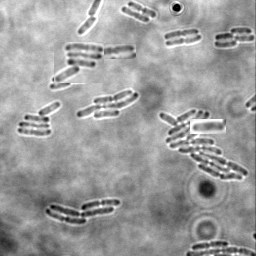Dividing: (90, 44, 136, 59), (190, 119, 226, 134), (128, 1, 157, 18), (166, 34, 202, 47), (164, 28, 200, 39), (192, 239, 229, 249)
Microcolony: (158, 109, 249, 180), (54, 42, 104, 83), (76, 88, 139, 119), (45, 199, 121, 224), (18, 101, 61, 136), (214, 27, 255, 48)
Rod: (121, 5, 150, 23), (78, 16, 99, 34), (50, 79, 72, 89)
